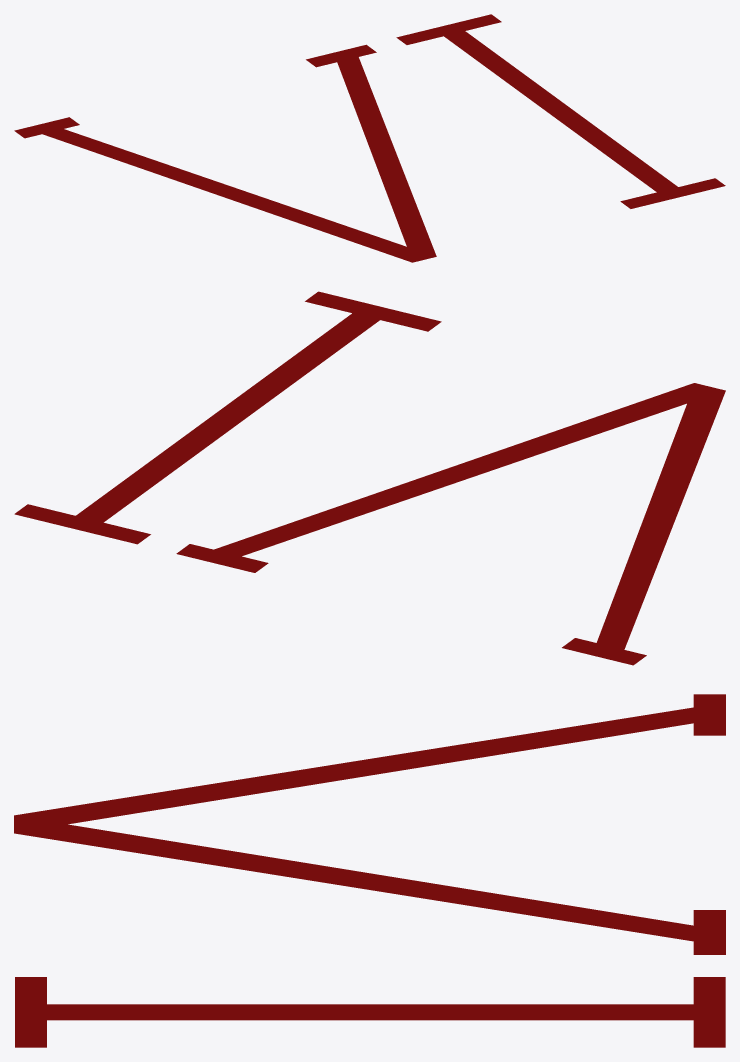
The model's file is six.fbx.
3 views of the same model, one above another, from view 1: azimuth 30°, elevation 25°; view 2: azimuth 150°, elevation 25°; view 3: azimuth 270°, elevation 25° (orthographic). The views are drawn at different scales.
Parts seen in each view (by area): view 1: six; view 2: six; view 3: six.
Boxes of the visible parts, x1,y1,x2,y2 form: six: (14,14,725,262); six: (14,291,725,665); six: (14,694,725,1047).
Bounding box in the file's own units: 1.29 × 2.93e-07 × 1.1.
